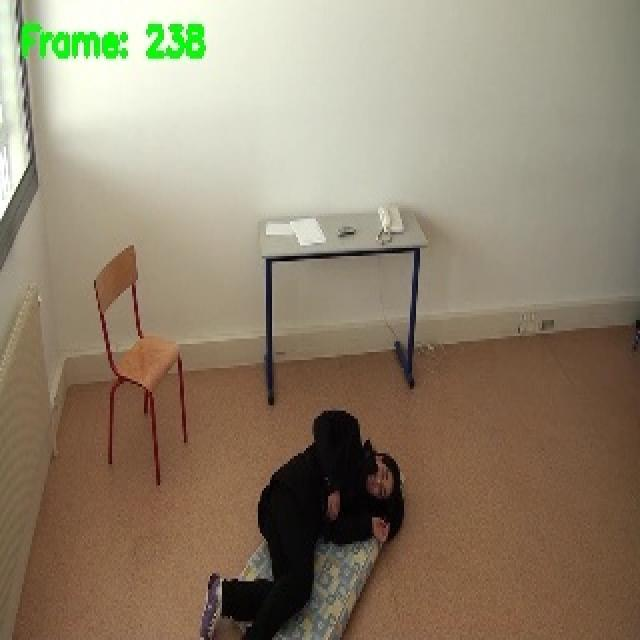fall: (192, 406, 408, 640)
